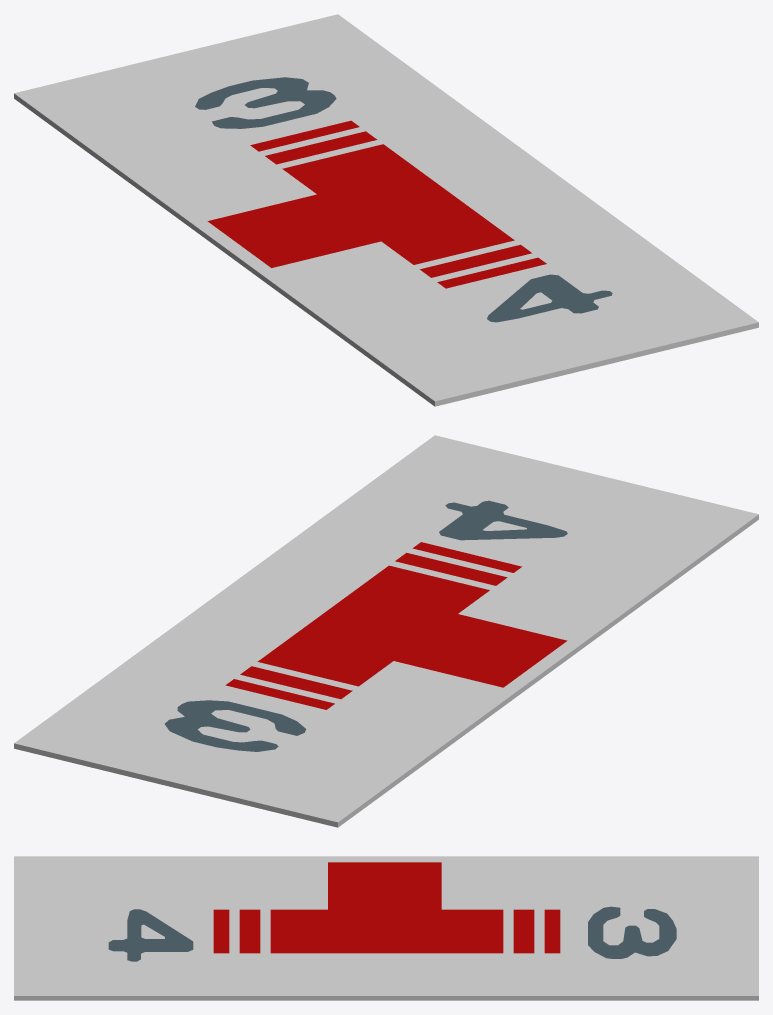
3 views of the same model, one above another, from view 1: azimuth 30°, elevation 25°; view 2: azimuth 150°, elevation 25°; view 3: azimuth 270°, elevation 25° (orthographic). The views are drawn at different scales.
Parts seen in each view (by area): view 1: world; view 2: world; view 3: world.
Part boxes in pixels (box(x1,y1,x2,y2)): world: box(14, 14, 758, 406); world: box(14, 435, 758, 827); world: box(14, 856, 758, 1000).
Size of the model in its own units: 0.0064 by 0.0001 by 0.0144.
